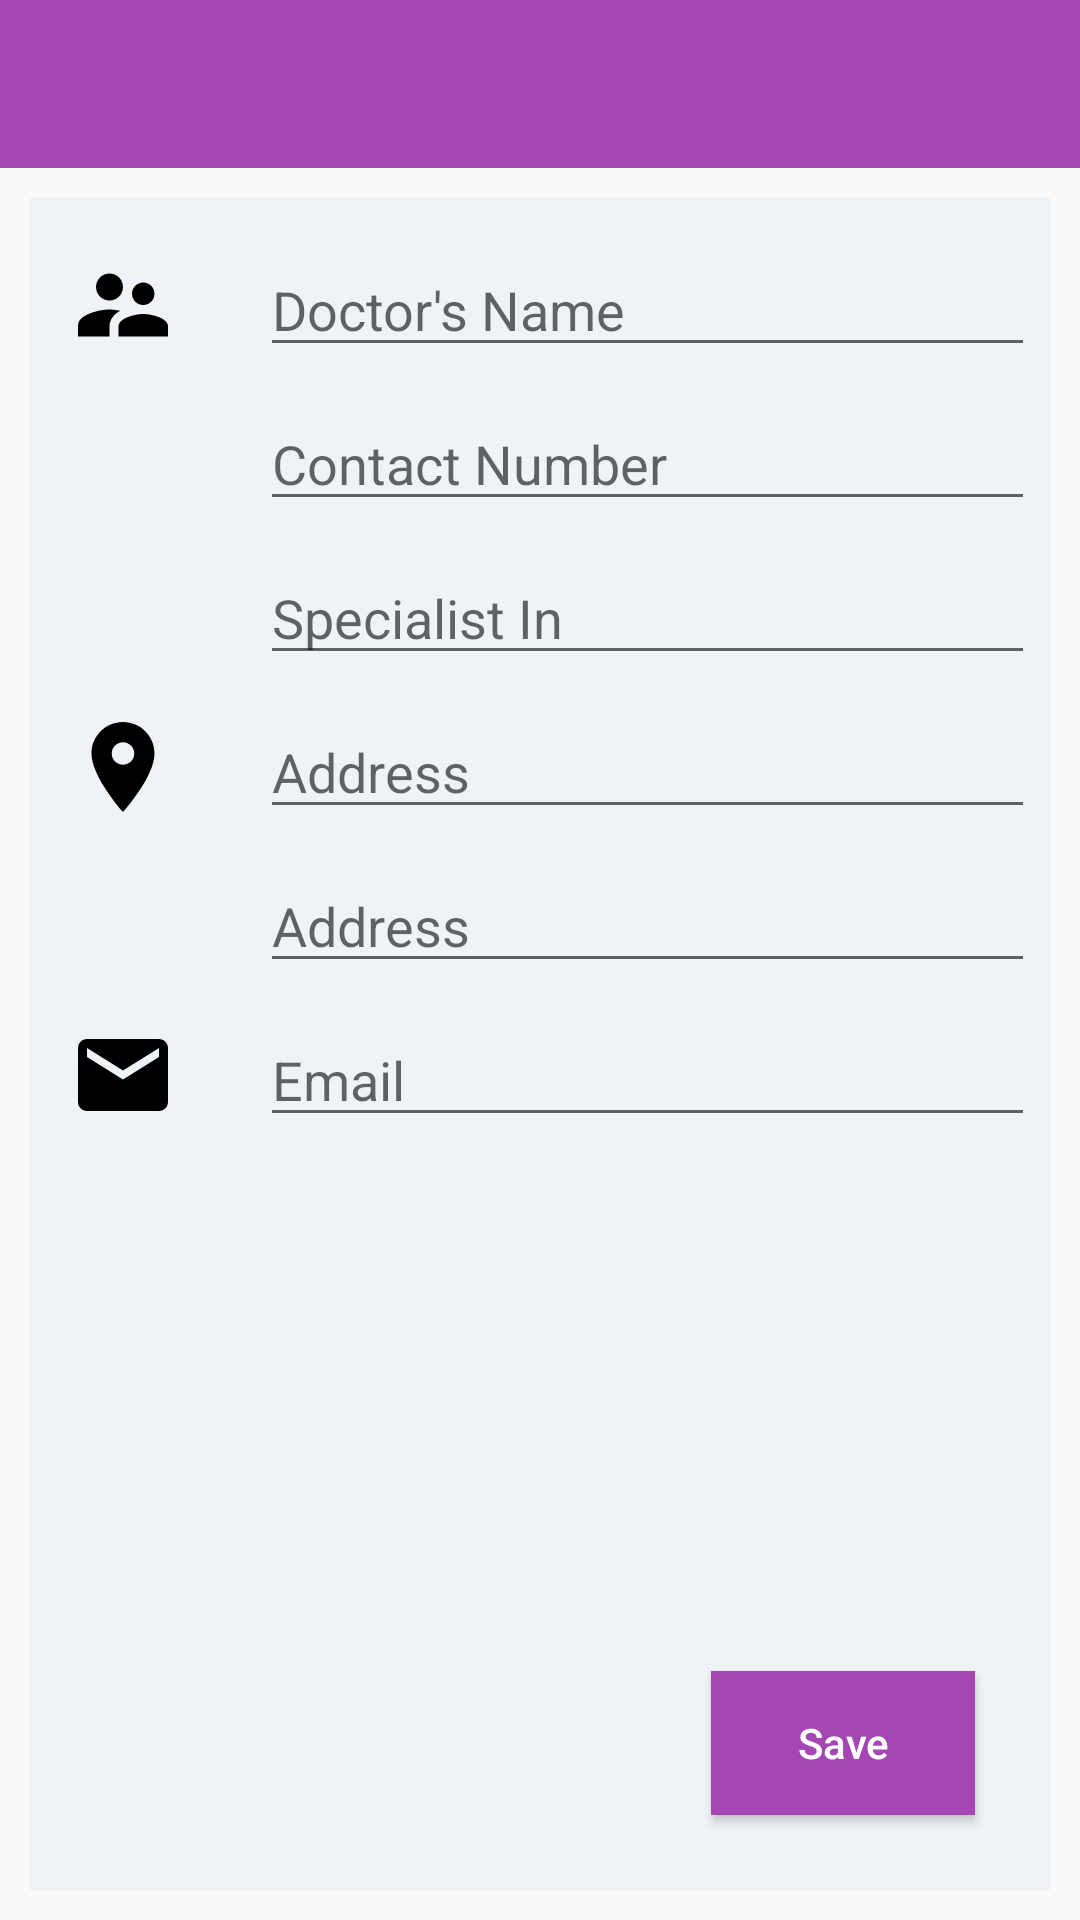

Icons on this 1080 x 1920 Android screen, each with its box as (x1, y1, x2, y2):
location on: (91, 722, 155, 812)
users: (78, 273, 168, 337)
